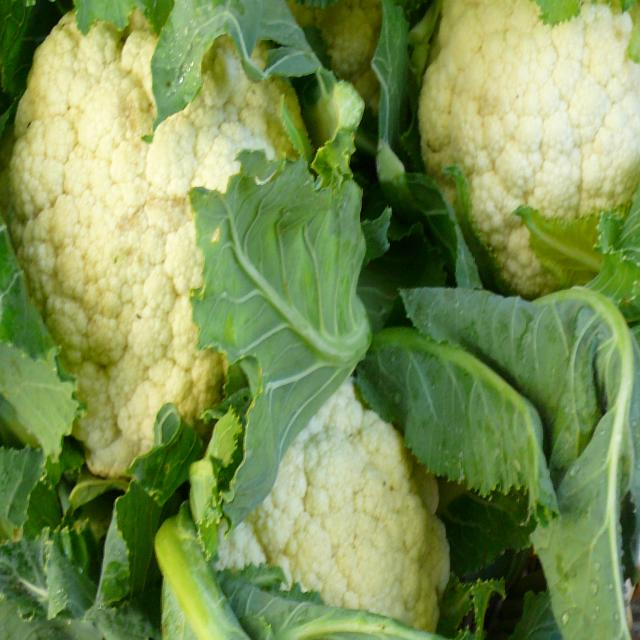cauliflower: (26, 0, 345, 420), (225, 347, 495, 640), (400, 0, 640, 272)
